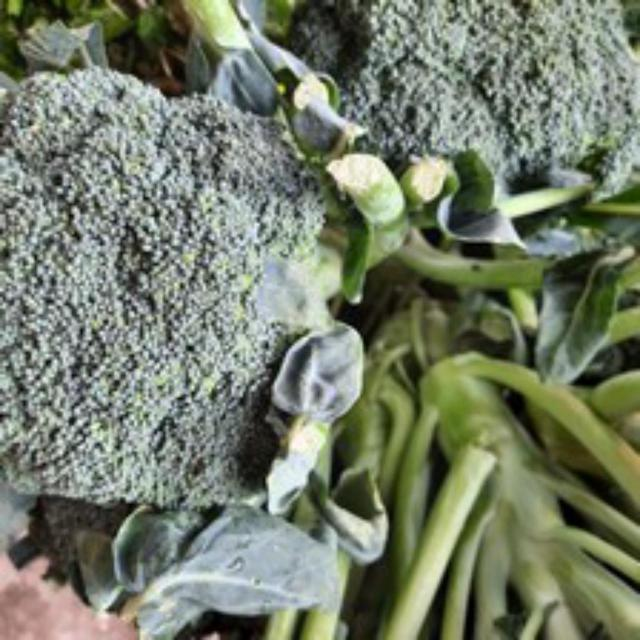broccoli: (0, 51, 340, 531)
